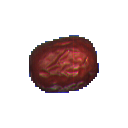gd: (22, 24, 128, 104)
